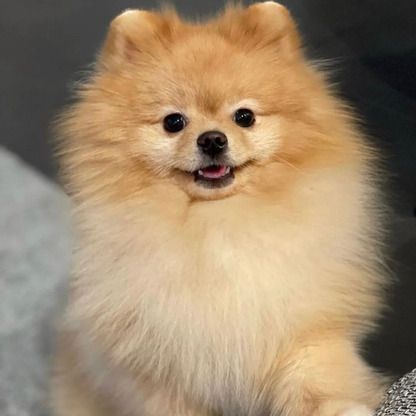Pomeranian: (60, 8, 391, 394)
